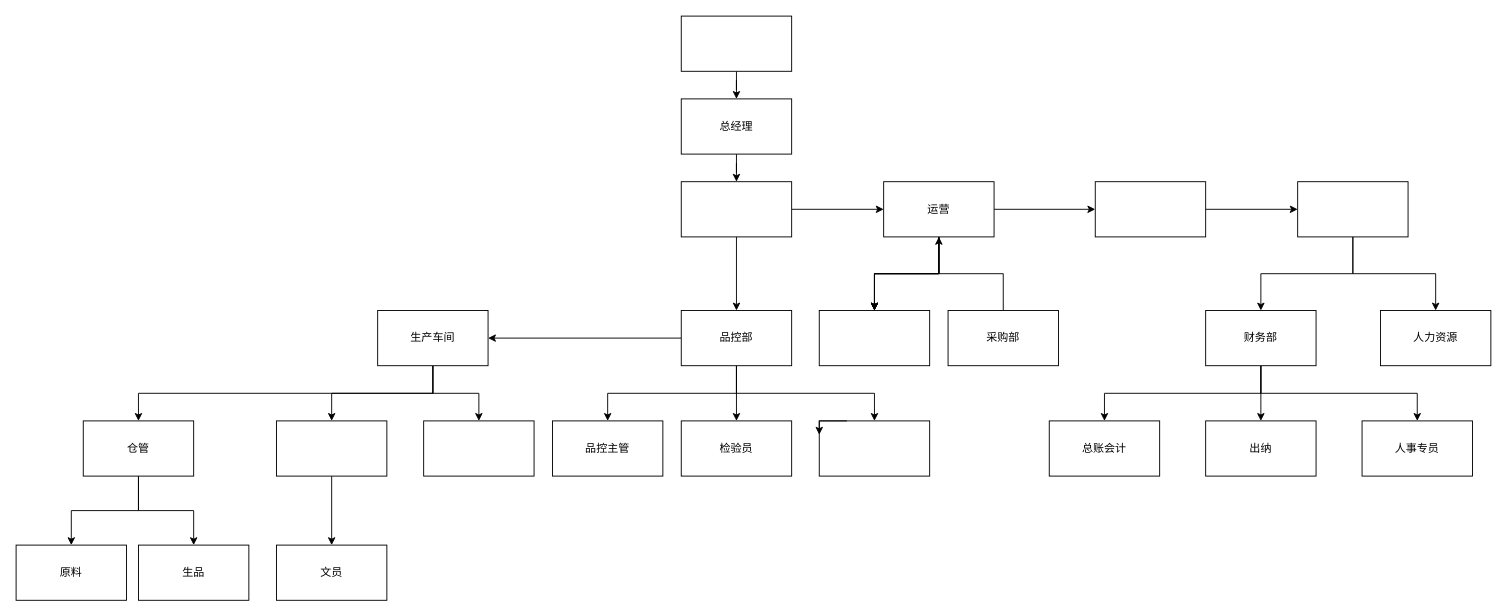
This 1507x616 diagram has some shape labels left out. The centre of each missing label's shape, as x and y in pixels:
"产品研发" goes at (x=1150, y=209).
"厂长" goes at (x=736, y=209).
"现场品控" goes at (x=874, y=448).
"生产计划" goes at (x=331, y=448).
"设备部" goes at (x=478, y=448).
"销售部" goes at (x=874, y=338).
"集团办公室" goes at (x=1352, y=209).
"集团懂事长" goes at (x=736, y=43).
